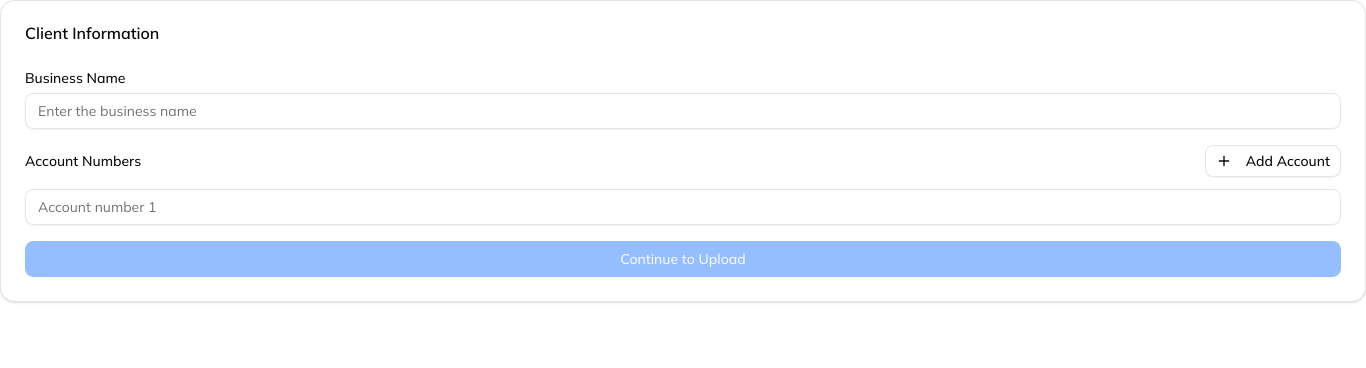
ClientInfoForm › allows adding additional account numbers
The image size is (1366, 368).
Click the button "Add Account": [1273, 161] box [1205,145,1341,177]
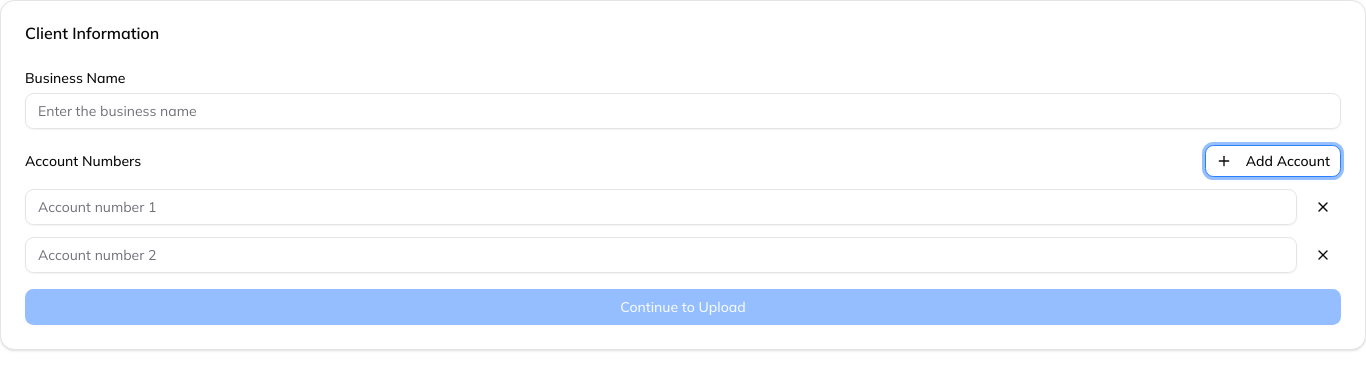
Check: the field with placeholder "Account number 2" is shown, box [25,237,1297,273]
